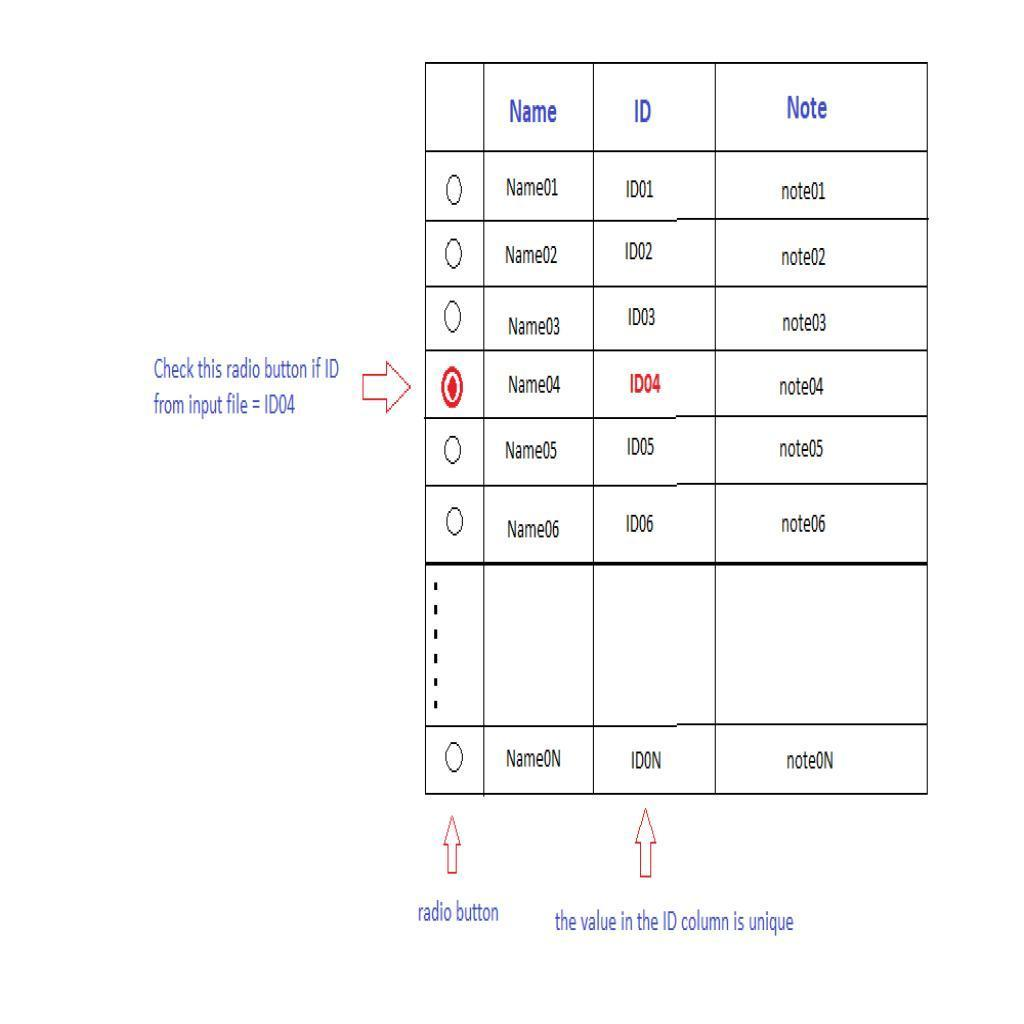radio: (440, 231, 471, 276), (438, 296, 470, 339), (443, 737, 472, 784), (439, 363, 467, 411), (438, 430, 467, 472), (443, 173, 471, 214), (443, 498, 467, 543)
table: (424, 61, 931, 798)
